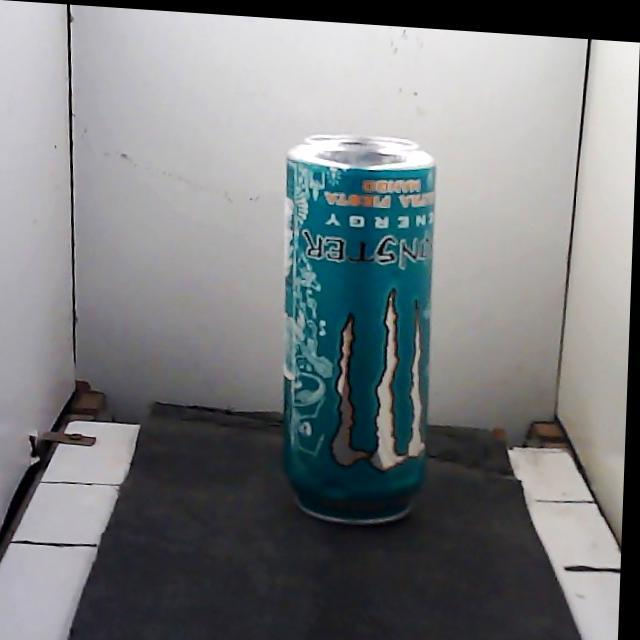metal: (283, 135, 434, 523)
